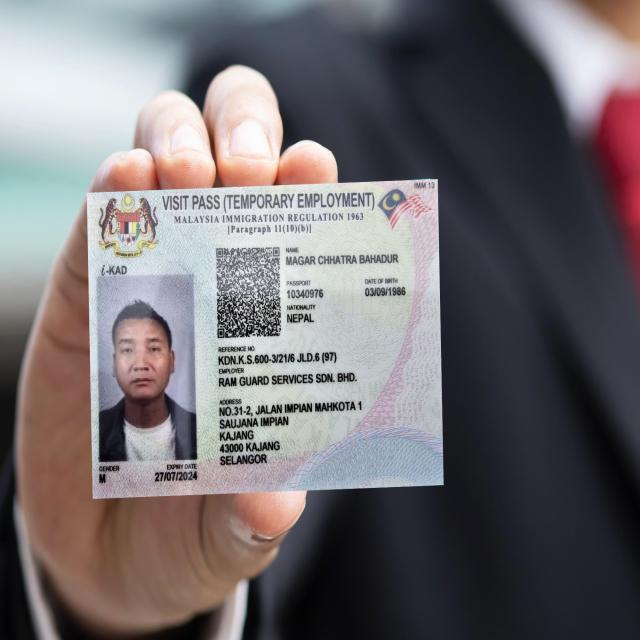ikad-temp: (81, 174, 448, 507)
